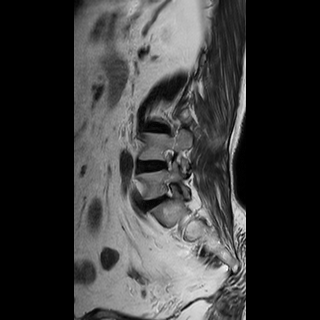LFS1: (156, 143, 178, 176)
